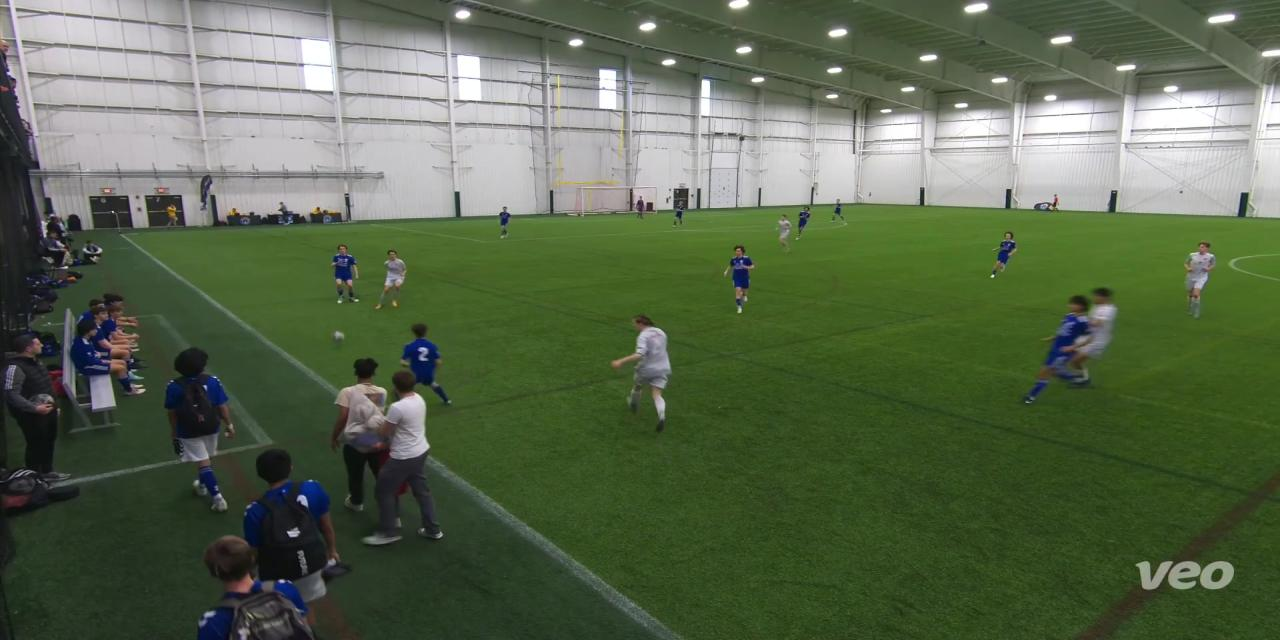goal: (564, 182, 667, 218)
sports ball: (325, 322, 351, 347)
